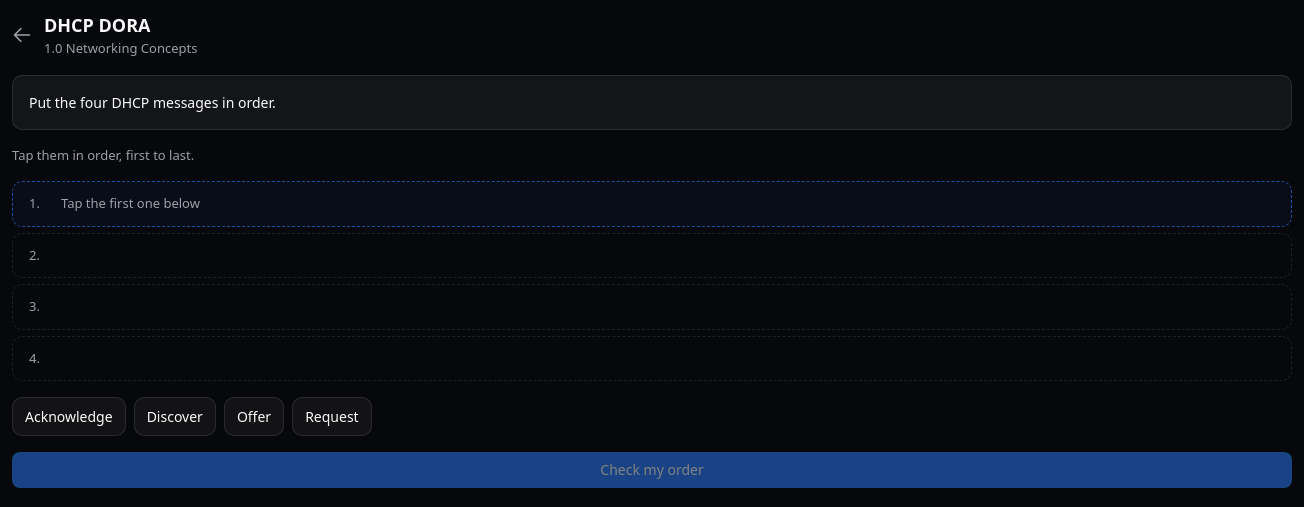
Test: ordering PBQs › sends a placed item back with a tap, without moving the other choices
This screenshot has width=1304, height=507.
Click the button "Offer" at [254, 416], box [224, 397, 284, 436]
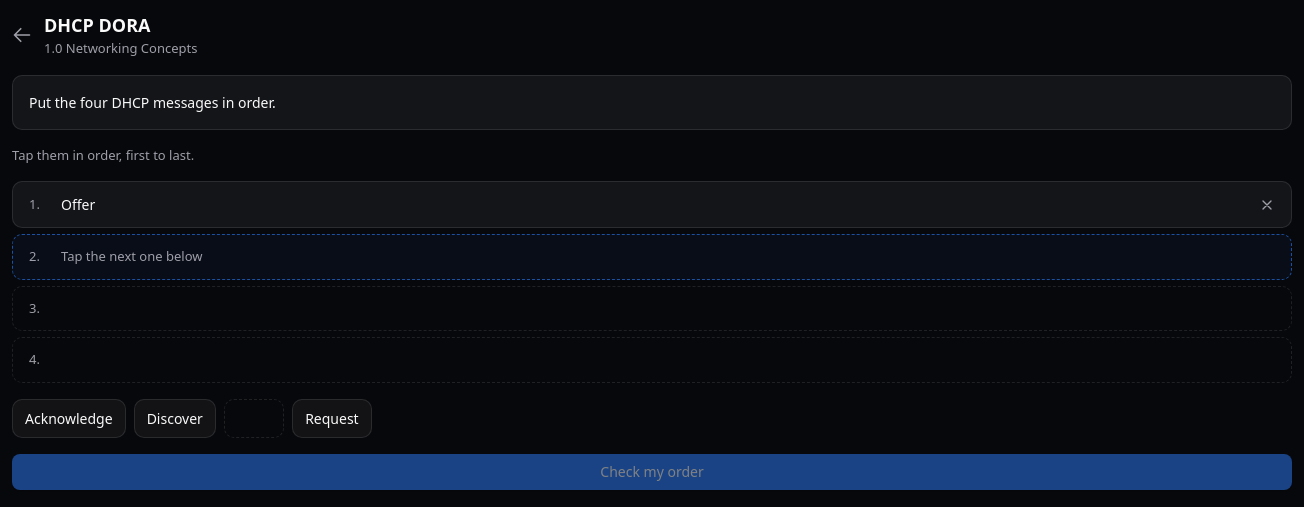
Click the button "1. Offer" at [78, 204], box [12, 181, 1292, 228]
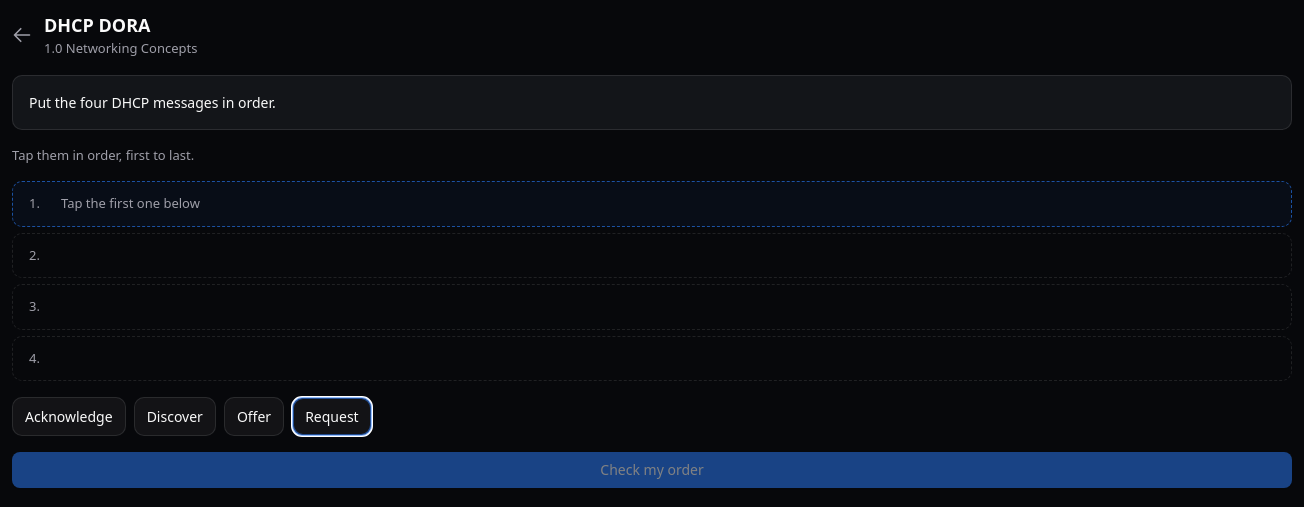
expect the buttons read "Acknowledge", "Discover", "Offer", "Request", in this order: met, box [12, 397, 126, 436]; [134, 397, 216, 436]; [224, 397, 284, 436]; [292, 397, 372, 436]
